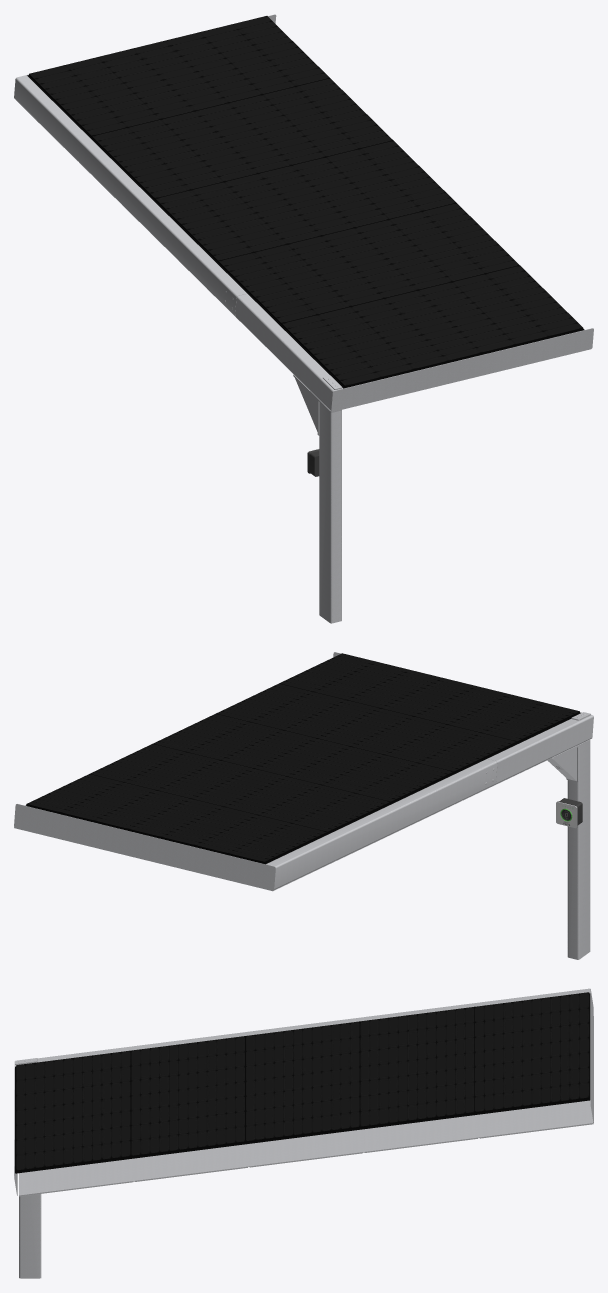
The picture shows the model from 3 angles, top to bottom: view 1: azimuth 30°, elevation 25°; view 2: azimuth 150°, elevation 25°; view 3: azimuth 270°, elevation 25°; orthographic projection. The views are drawn at different scales.
Parts seen in each view (by area): view 1: Left.003; view 2: Left.003; view 3: Left.003.
Part boxes in pixels (box(x1,y1,x2,y2)): Left.003: box(14, 14, 593, 623); Left.003: box(14, 652, 593, 959); Left.003: box(14, 988, 593, 1278).
Size of the model in its own units: 2.73 by 3.11 by 5.7.
Materials: 5 (5 with a texture image).
